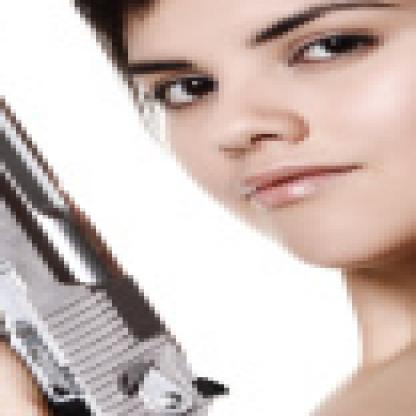gun: (0, 3, 246, 413)
